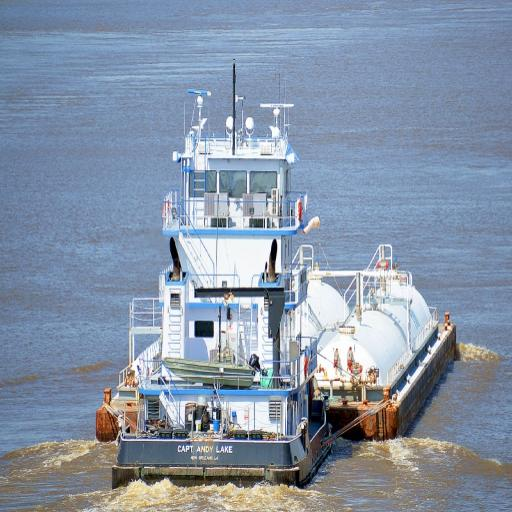tugboat: (95, 84, 339, 500)
